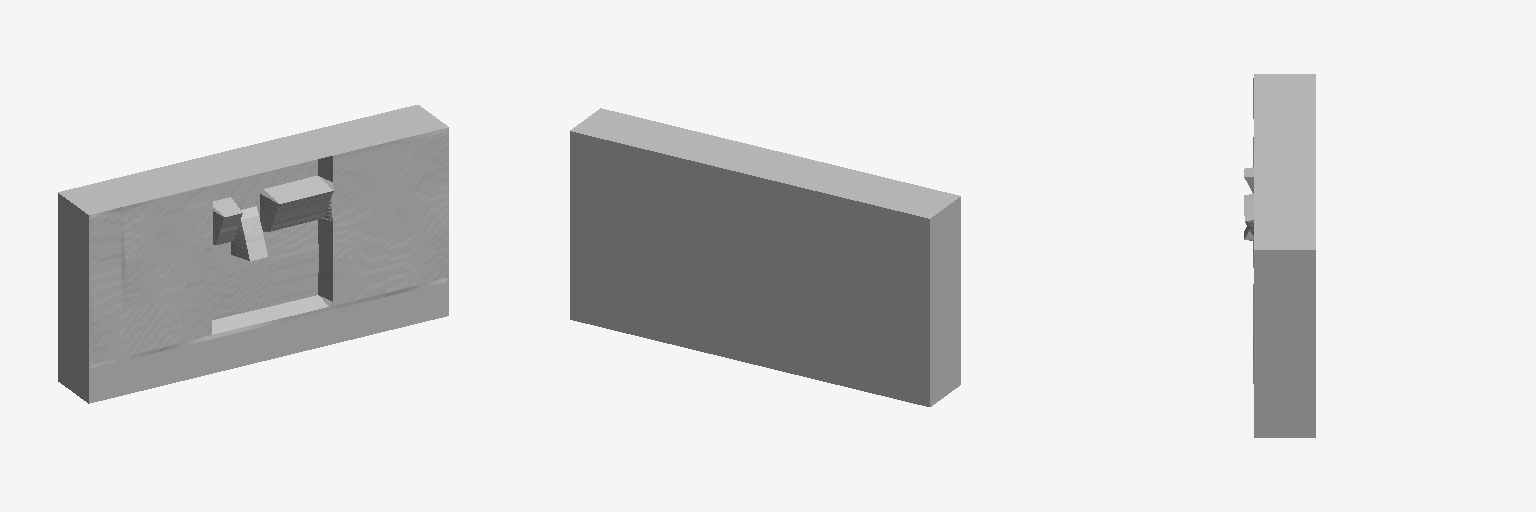
The model's file is rectangular_prism_bumps_8_0.obj.
The picture shows the model from 3 angles: view 1: azimuth 30°, elevation 25°; view 2: azimuth 150°, elevation 25°; view 3: azimuth 270°, elevation 25°; orthographic projection.
Size of the model in its own units: 10 by 5 by 1.75.